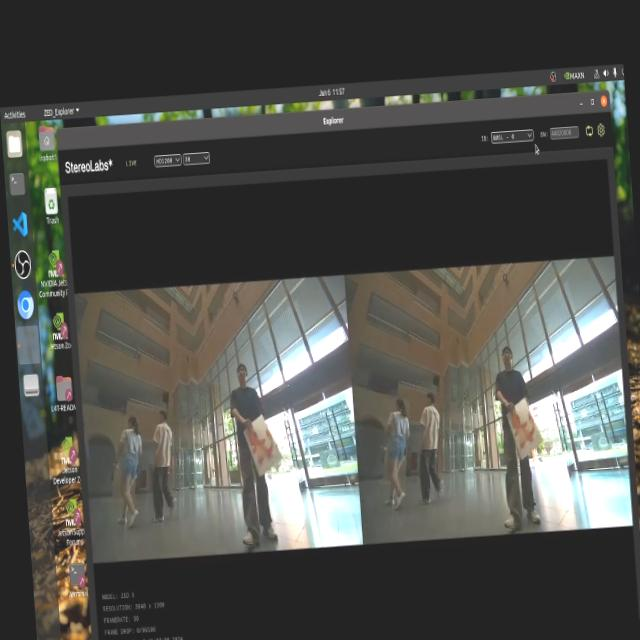red: (244, 418, 284, 472), (506, 402, 540, 454)
